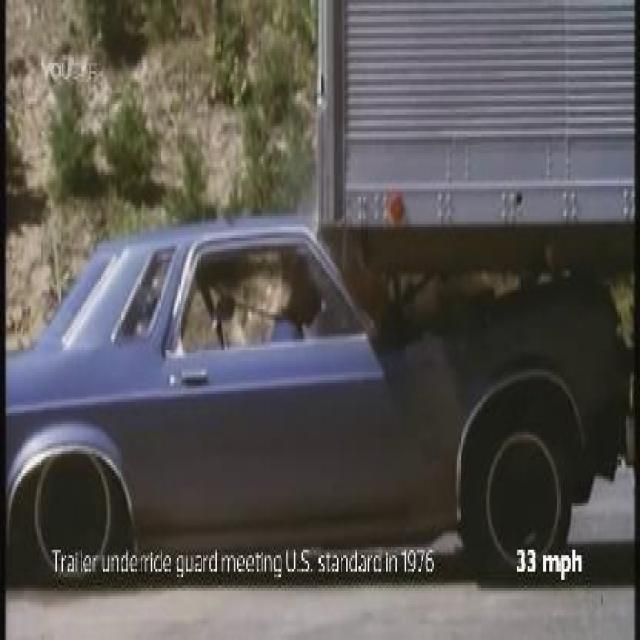accident: (6, 3, 639, 591)
